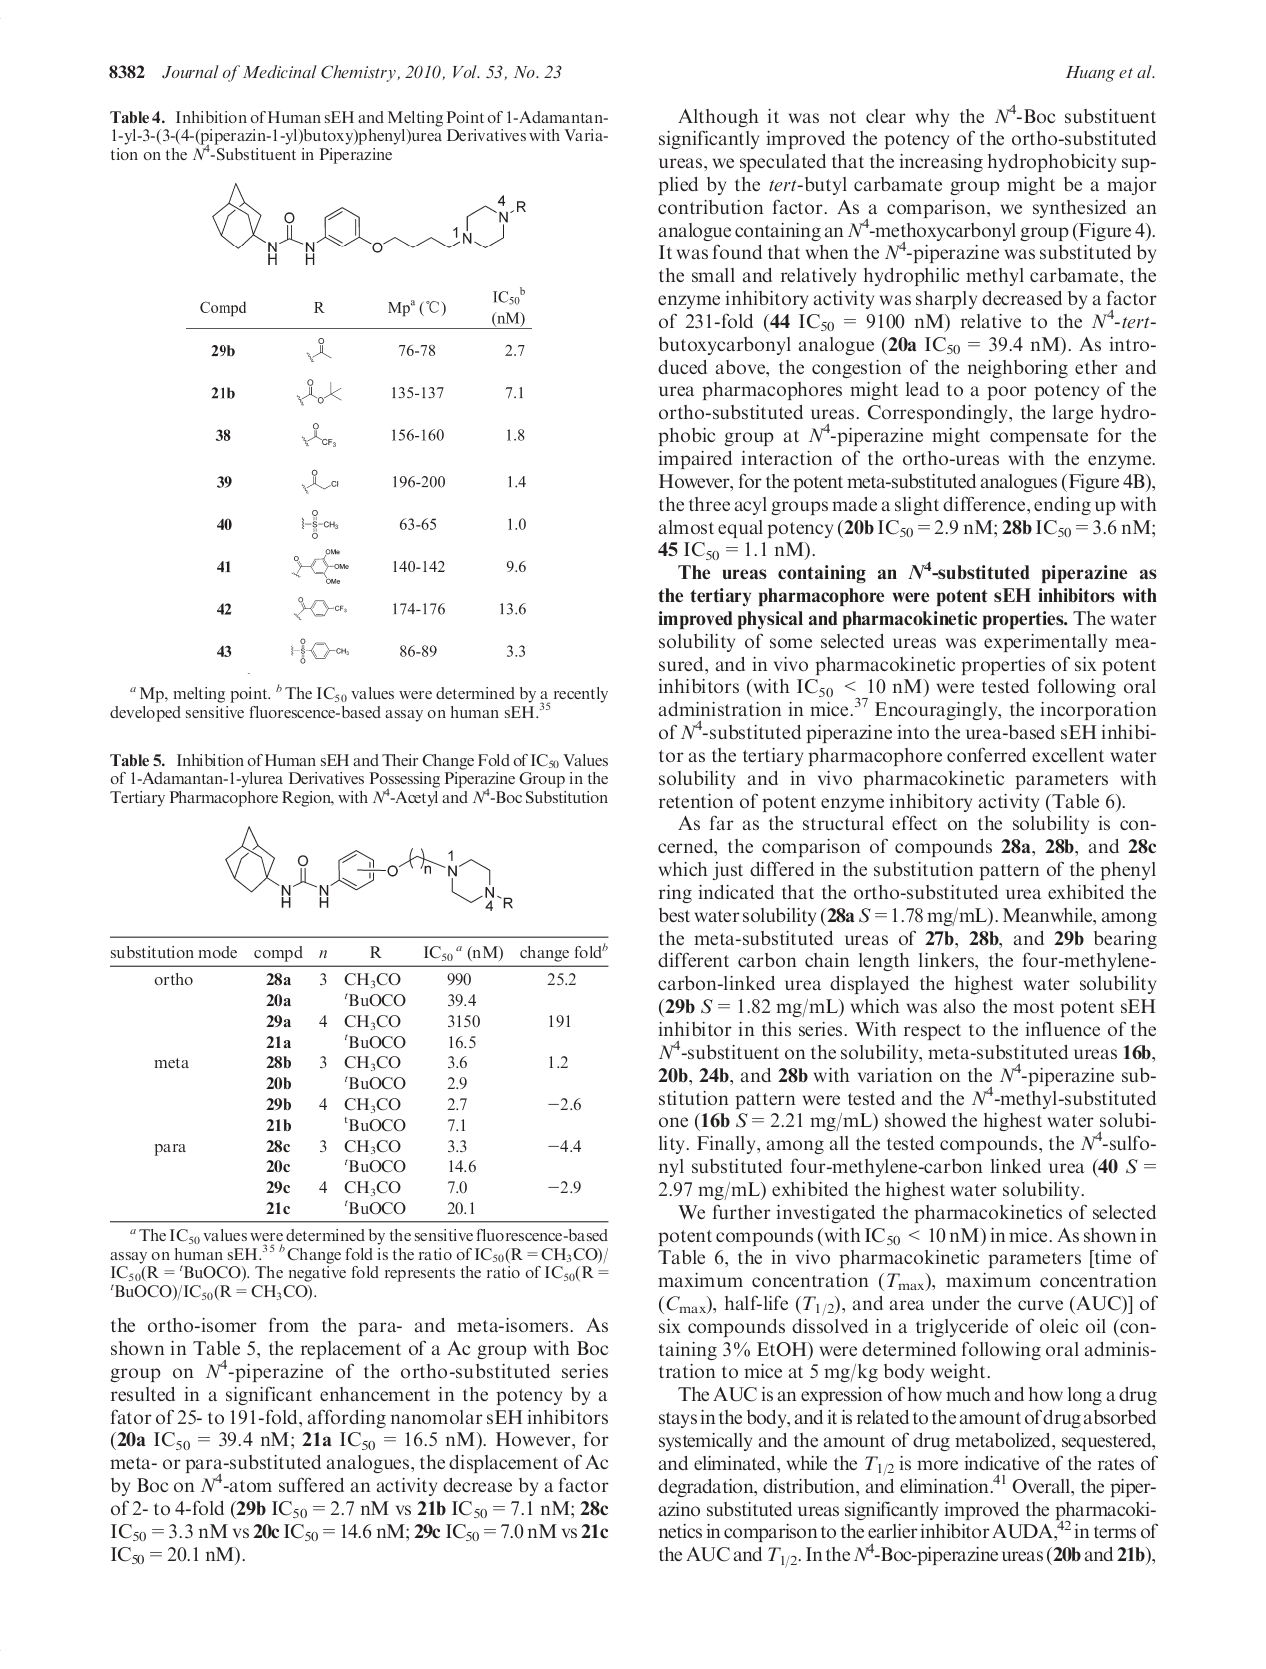exist_molecular: (211, 181, 529, 266), (222, 825, 516, 914), (293, 547, 350, 586), (290, 634, 351, 666), (293, 594, 348, 622), (301, 508, 338, 541), (297, 380, 343, 406), (301, 468, 340, 496), (301, 423, 338, 448), (305, 336, 332, 364)
